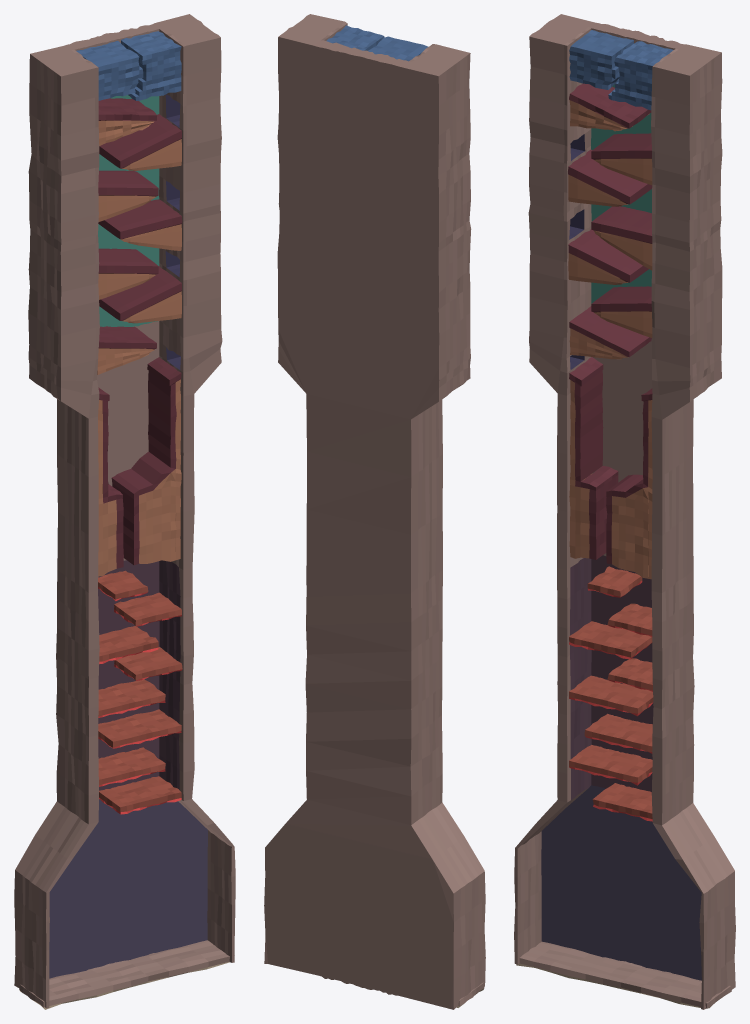
File: contra_level_7.fbx
The picture shows the model from 3 angles, left to right: view 1: azimuth 30°, elevation 25°; view 2: azimuth 150°, elevation 25°; view 3: azimuth 330°, elevation 25°; orthographic projection.
Visible parts, largest first — view 1: Background, GroundBody.R, GroundFlatBottom, GroundBody.L, GroundBlock.001, GroundBlock.005, Water2.001, GroundBlock.003, Water1.001, GroundBlock.002, GroundBlock.004, GroundFlat.005 (+9 smaller); view 2: Background, Water1.001, Water2.001; view 3: Background, GroundBody.L, GroundFlatBottom, GroundBody.R, GroundBlock.002, GroundBlock.004, GroundBlock.006, Water1.001, GroundBlock, GroundBlock.003, Water2.001, GroundBlock.001 (+9 smaller).
Boxes of the visible parts, x1,y1,x2,y2 form: Background: (14,14,235,1008); GroundBody.R: (111,357,181,565); GroundFlatBottom: (19,940,229,1009); GroundBody.L: (98,387,123,576); GroundBlock.001: (99,114,181,170); GroundBlock.005: (99,266,181,323); Water2.001: (121,31,181,100); GroundBlock.003: (98,199,182,250); Water1.001: (76,40,143,100); GroundBlock.002: (98,170,158,221); GroundBlock.004: (98,248,158,299); GroundFlat.005: (98,709,181,748); Background: (264,14,485,1009); Water1.001: (368,36,428,61); Water2.001: (326,25,384,50); Background: (514,14,735,1009); GroundBody.L: (569,357,618,559); GroundFlatBottom: (516,941,731,1008); GroundBody.R: (606,388,652,579); GroundBlock.002: (568,149,652,206); GroundBlock.004: (568,229,648,284); GroundBlock.006: (569,306,651,359); Water1.001: (569,30,633,89); GroundBlock: (569,83,651,131); GroundBlock.003: (591,206,652,270); Water2.001: (608,41,673,110); GroundBlock.001: (591,133,652,185).
Bounding box in the file's own units: 11072 × 51404 × 3274.
